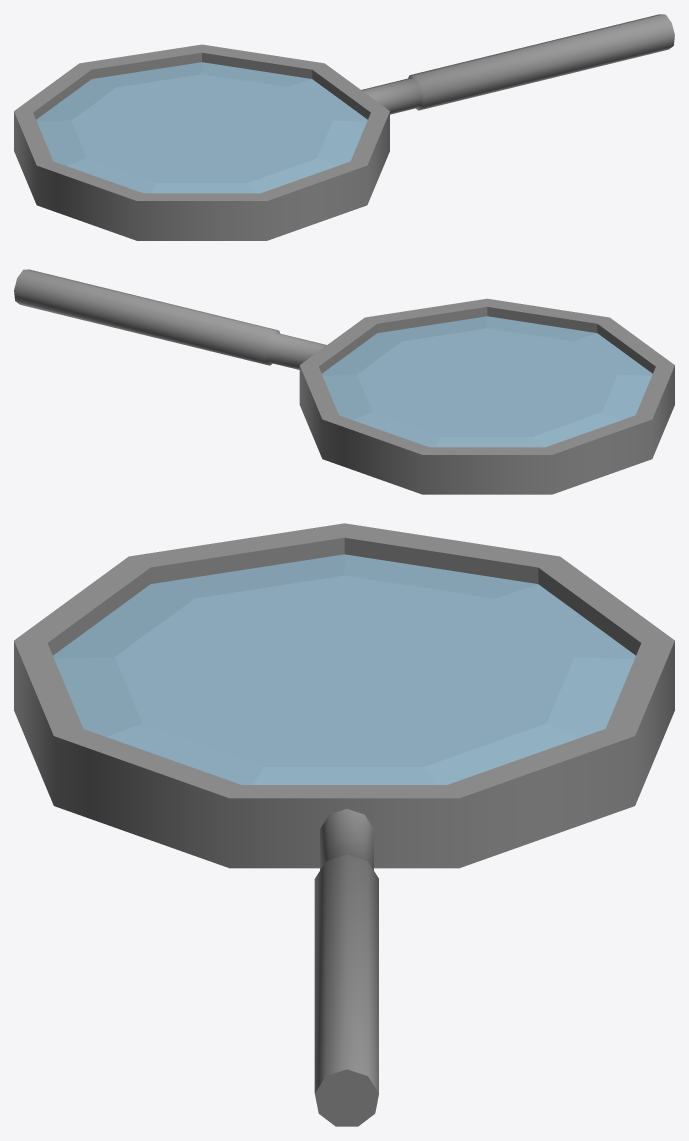
The model's file is Vergrößerungsglas_SM.FBX.
3 views of the same model, one above another, from view 1: azimuth 30°, elevation 25°; view 2: azimuth 150°, elevation 25°; view 3: azimuth 270°, elevation 25° (orthographic). The views are drawn at different scales.
Parts seen in each view (by area): view 1: Cylinder001; view 2: Cylinder001; view 3: Cylinder001.
Boxes of the visible parts, x1,y1,x2,y2 form: Cylinder001: (14,14,674,240); Cylinder001: (14,269,674,494); Cylinder001: (14,523,674,1126).
Bounding box in the file's own units: 30.63 × 1.85 × 15.84.
